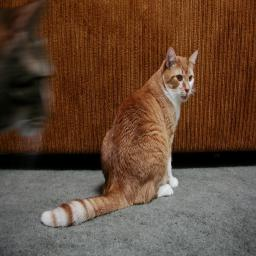catnose: (184, 88, 190, 93)
